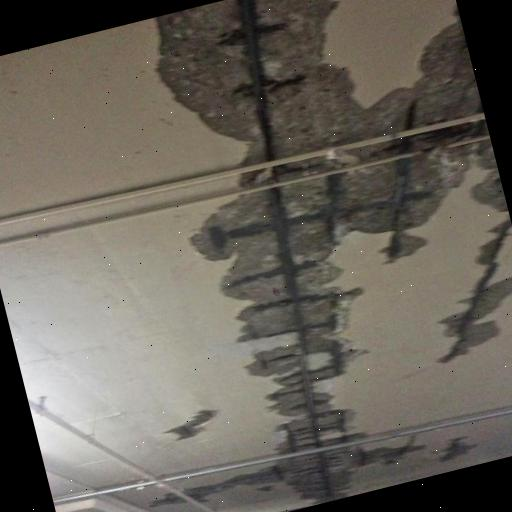spalling: (145, 0, 512, 505)
